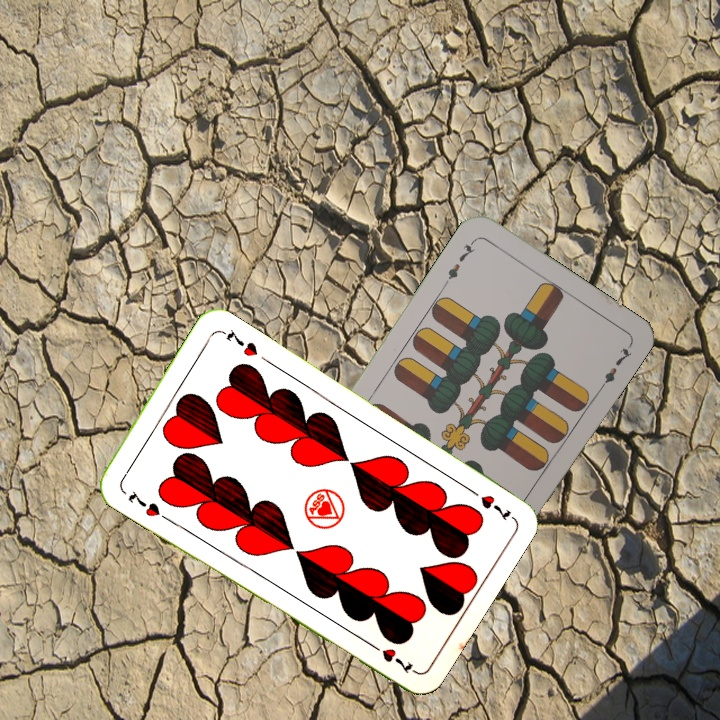E7: (440, 235, 478, 288)
H7: (463, 483, 515, 524), (124, 486, 163, 520)
